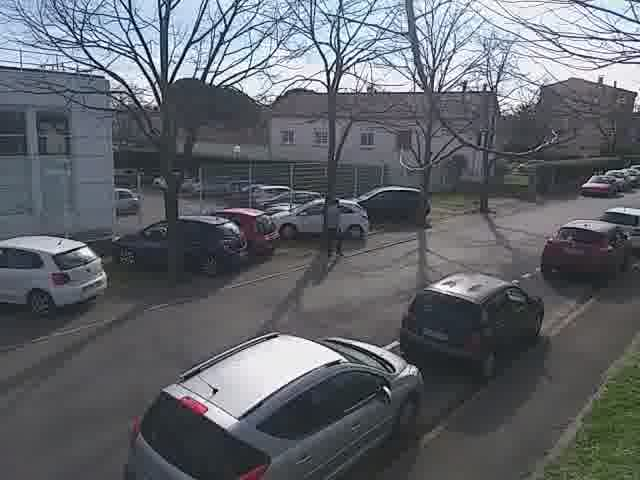persona: (317, 191, 347, 262)
